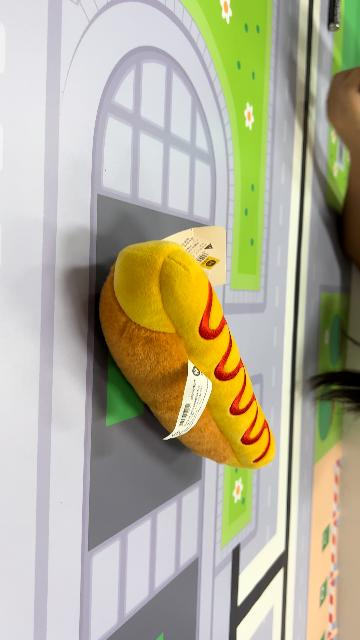hotdog: (99, 238, 278, 472)
